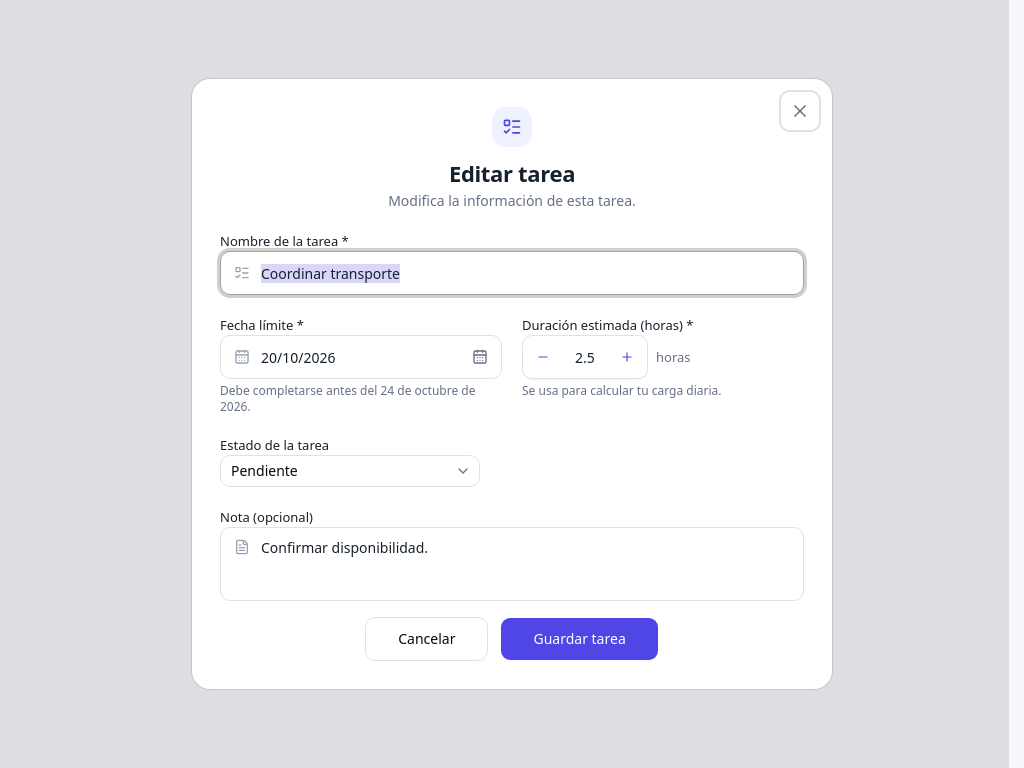
Test: EditSubtaskDialog › valida los campos obligatorios y no envía
Clear the field labelled "Nombre de la tarea *" at (512, 273), box [220,251,804,295]
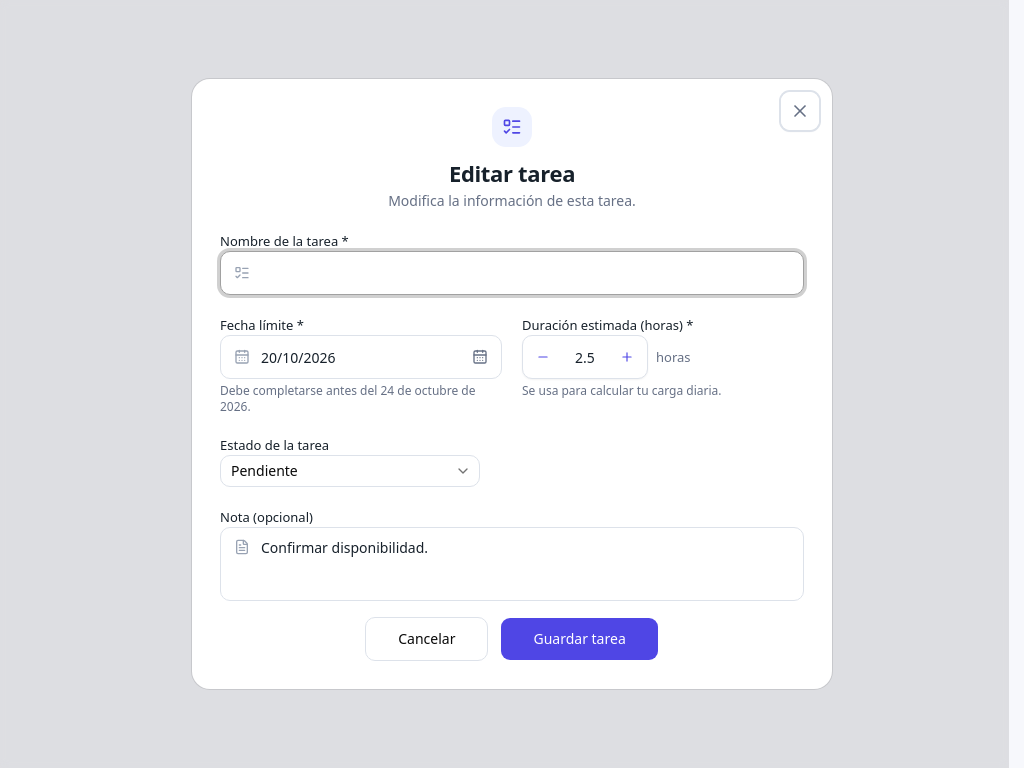
Clear the field labelled "Fecha límite *" at (361, 357), box [220,335,502,379]
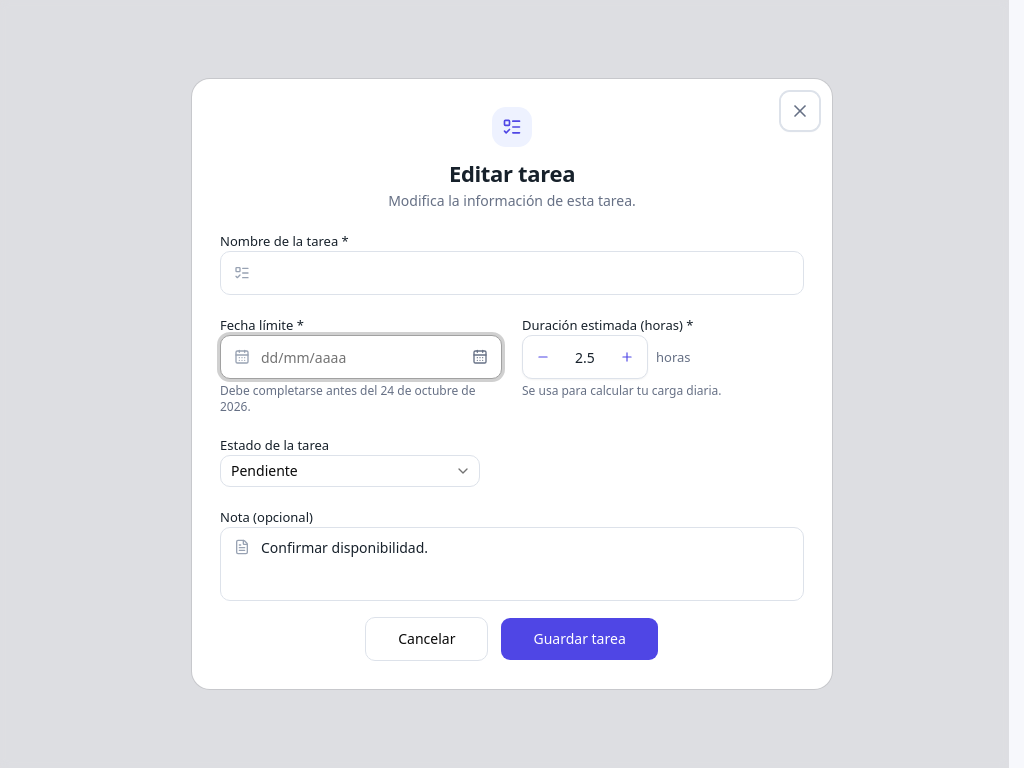
Clear the number field named "Tiempo estimado *" at (585, 357), box [557,341,613,373]
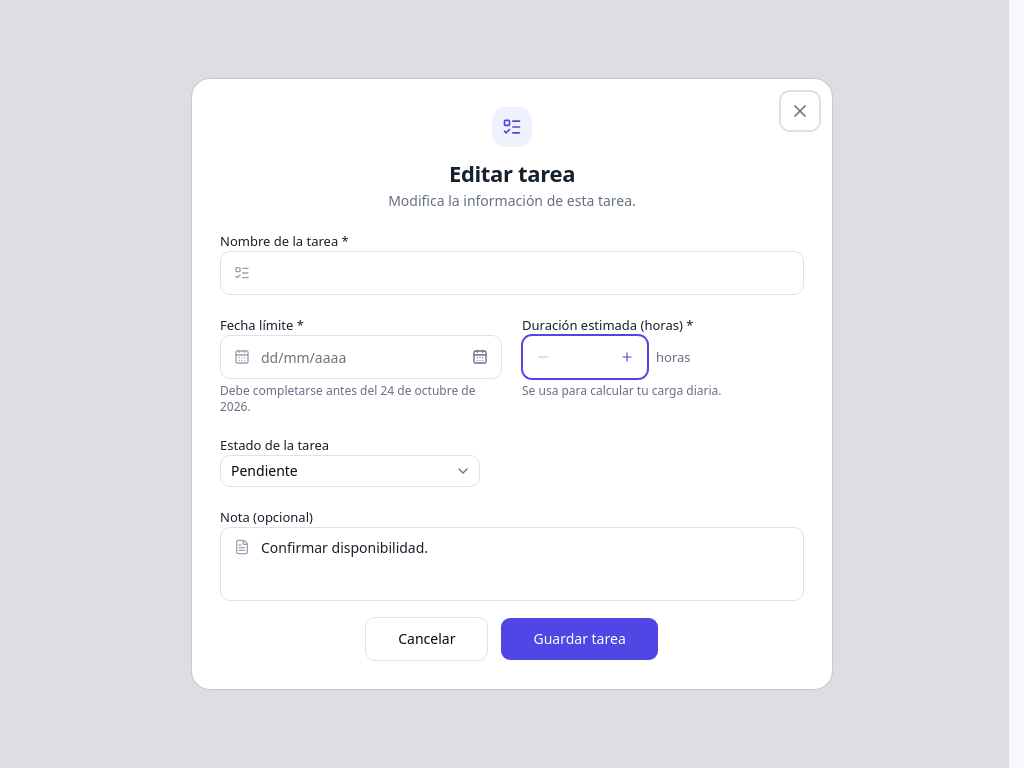
Click the button with aria-label "Guardar cambios" at (580, 639), box [500,617,659,661]
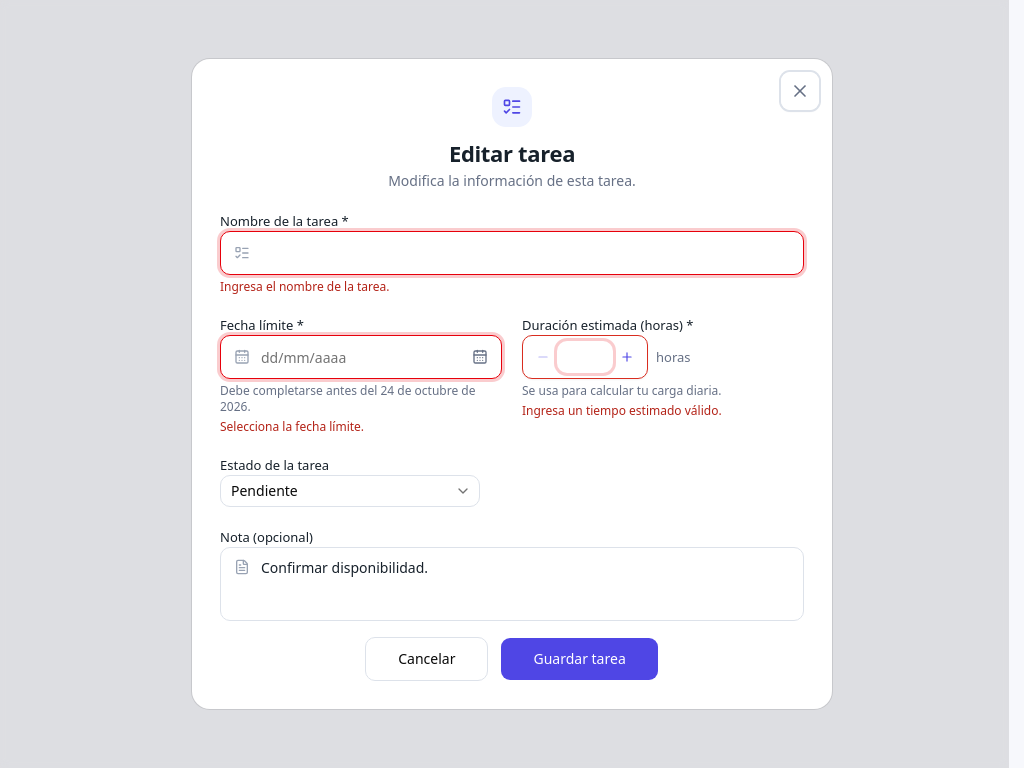
Result: the text "Ingresa el nombre de la tarea." is shown at [220,278,390,295]
Result: the text "Selecciona la fecha límite." is shown at [220,418,364,435]
Result: the text "Ingresa un tiempo estimado válido." is shown at [522,402,722,419]
